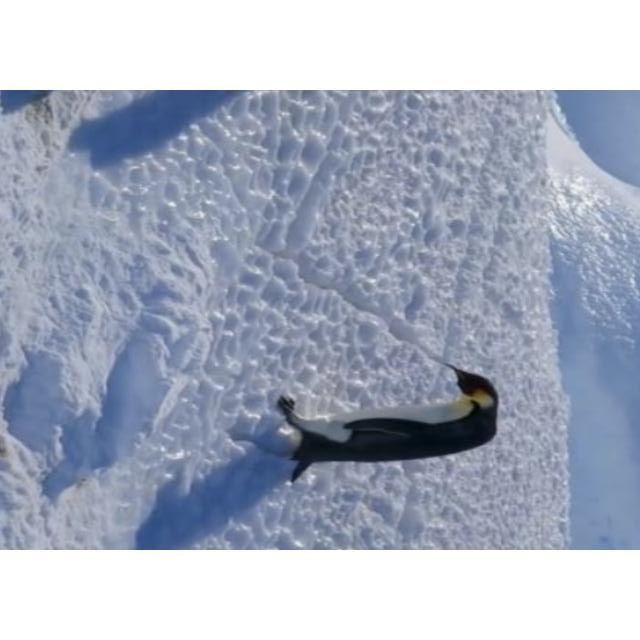penguin: (273, 360, 500, 485)
